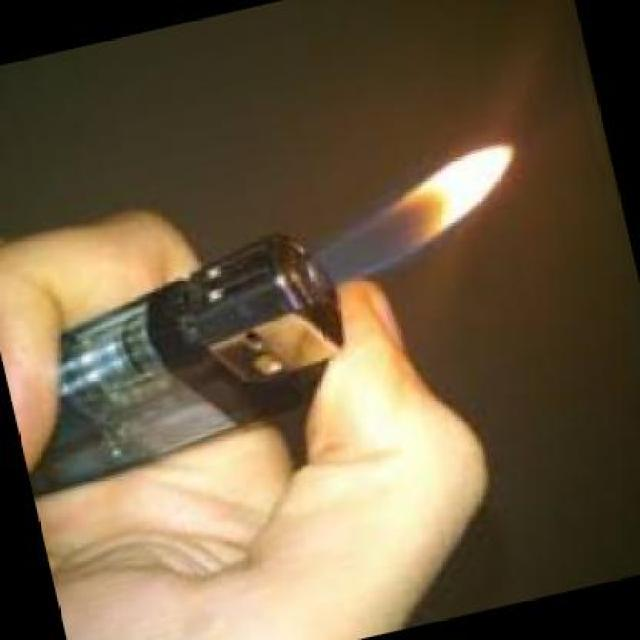Fire: (314, 142, 549, 285)
